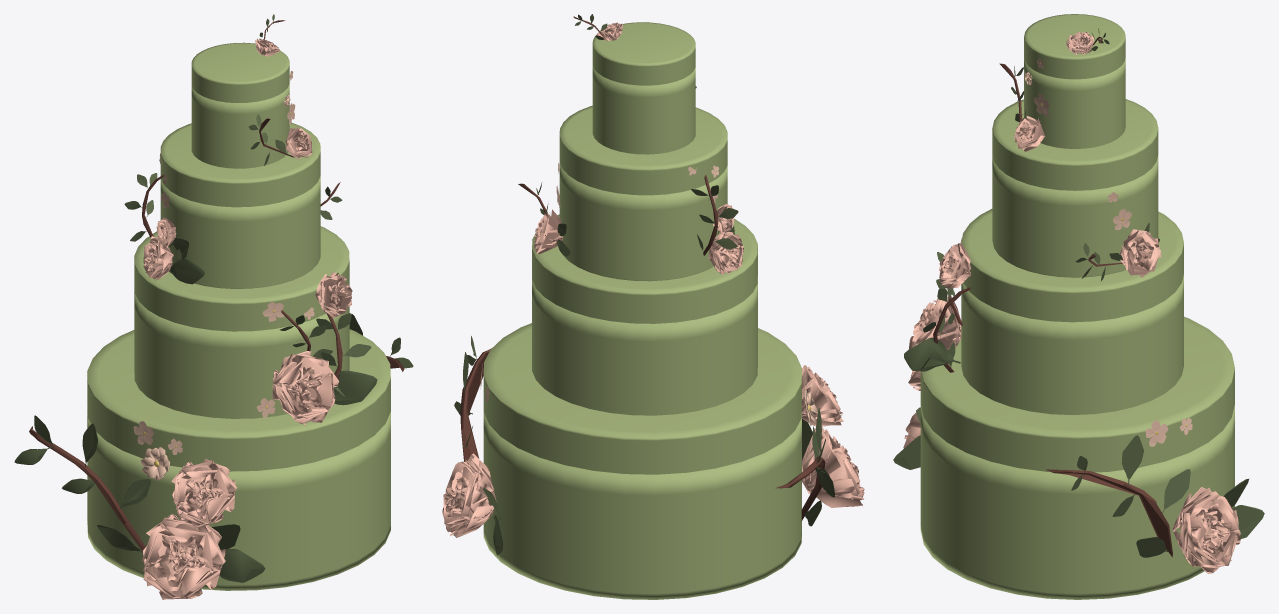
File: 4-tier-pistage-roses-none.glb
The picture shows the model from 3 angles, left to right: view 1: azimuth 30°, elevation 25°; view 2: azimuth 150°, elevation 25°; view 3: azimuth 270°, elevation 25°; orthographic projection. The views are drawn at different scales.
Parts seen in each view (by area): view 1: 3.001, 3, 2, 1, grid.013, Plane.024, grid.016, grid.012, grid.015, Plane.009, Plane.022, Plane.042 (+7 smaller); view 2: 3.001, 3, 2, 1, grid.020, grid.013, Plane.008, Plane.024, grid.012, grid.017, Plane.023, grid.019; view 3: 3.001, 3, 2, 1, grid.020, Plane.008, grid.016, grid.019, Plane.009, grid.015, grid.021, Plane.042 (+3 smaller).
Part boxes in pixels (x1,y1,x2,y2): 3.001: (87,329,390,590); 3: (134,226,349,418); 2: (160,122,320,288); 1: (191,42,289,168); grid.013: (142,514,225,599); Plane.024: (14,415,150,552); grid.016: (272,351,338,425); grid.012: (171,458,237,527); grid.015: (315,272,352,317); Plane.009: (333,370,377,405); Plane.022: (219,549,265,582); Plane.042: (316,313,371,396); 3.001: (483,323,801,599); 3: (532,214,757,415); 2: (559,105,727,281); 1: (592,22,695,154); grid.020: (442,453,496,537); grid.013: (802,427,864,507); Plane.008: (454,336,491,461); Plane.024: (775,408,834,526); grid.012: (802,365,843,426); grid.017: (708,232,744,274); Plane.023: (691,175,738,255); grid.019: (534,209,562,254); 3.001: (920,316,1234,599); 3: (961,209,1183,415); 2: (992,99,1158,277); 1: (1024,14,1125,148); grid.020: (1172,487,1240,573); Plane.008: (1046,435,1190,557); grid.016: (909,296,961,349); grid.019: (1119,229,1161,277); Plane.009: (904,337,960,371); grid.015: (939,243,970,288); grid.021: (1013,116,1045,151); Plane.042: (920,287,970,372).
Size of the model in its own units: 6.25 by 7.85 by 5.05.
